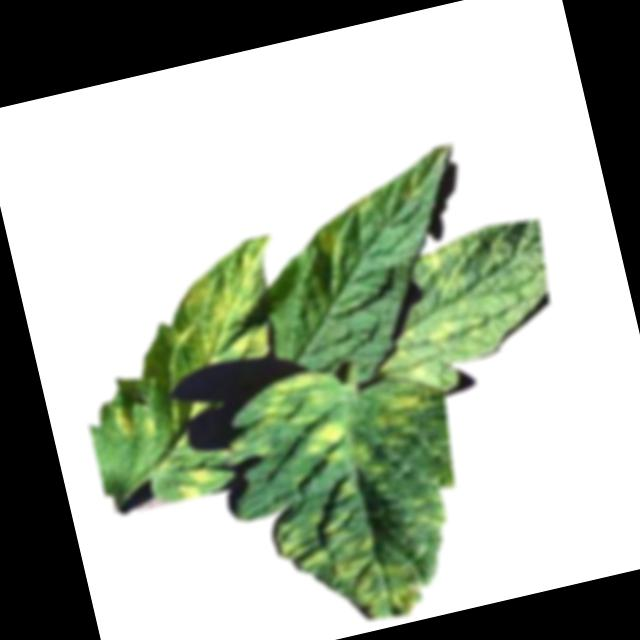Leaf_Mold: (262, 465, 429, 639), (140, 236, 295, 382), (373, 299, 514, 396), (250, 364, 346, 438), (416, 235, 483, 303), (303, 415, 375, 476), (369, 382, 427, 437), (109, 398, 162, 448), (315, 214, 357, 268), (172, 462, 222, 503), (349, 189, 384, 218)
